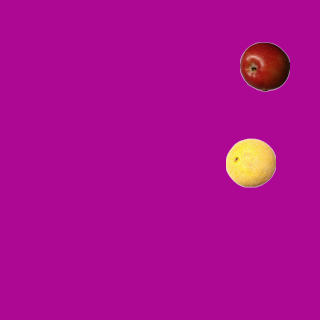Apple Braeburn: (239, 41, 289, 91)
Cantaloupe 1: (225, 137, 275, 187)
